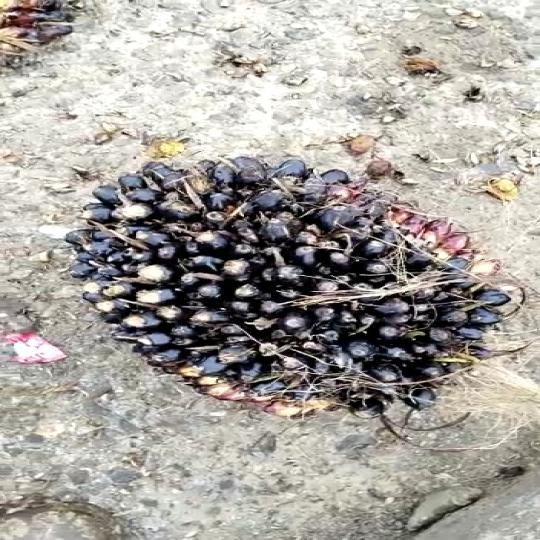mentah: (56, 137, 524, 420)
